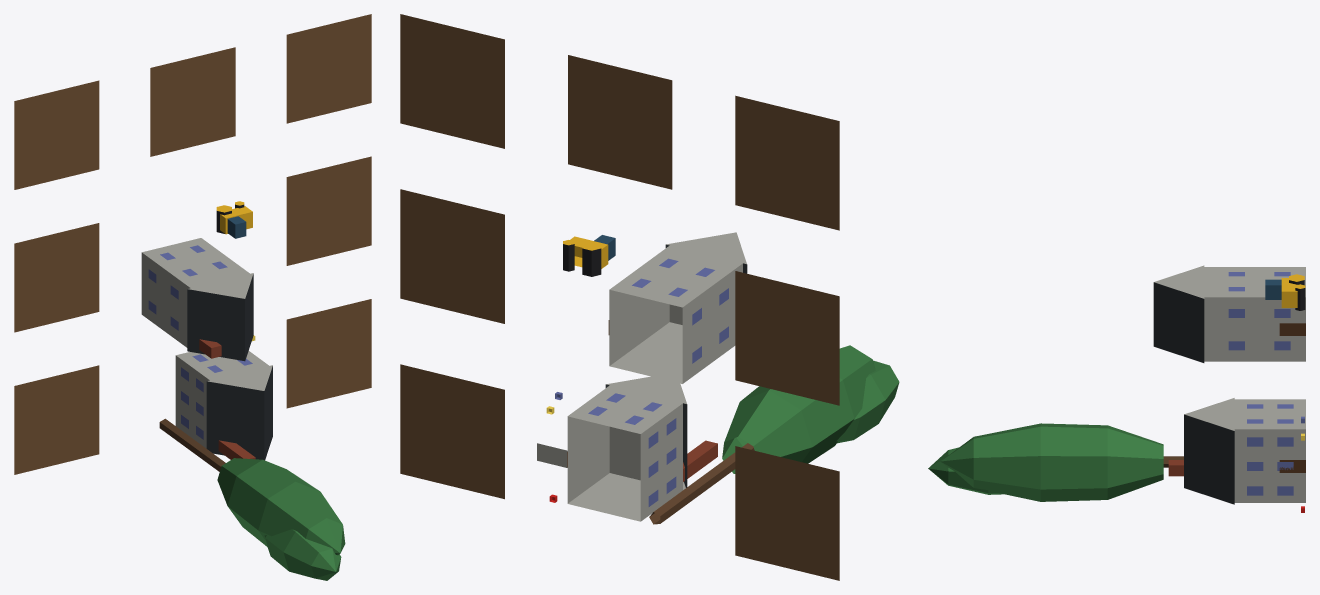
The model's file is construction_0.glb.
The picture shows the model from 3 angles, left to right: view 1: azimuth 30°, elevation 25°; view 2: azimuth 150°, elevation 25°; view 3: azimuth 270°, elevation 25°; orthographic projection. The views are drawn at different scales.
Parts seen in each view (by area): view 1: t10_g33, t11_g34, t12_g36, t00_g37, t01_g37, t21_g38, t22_g38, t02_g36, t20_g35; view 2: t10_g33, t11_g34, t20_g35, t00_g37, t02_g36, t22_g38, t01_g37, t12_g36, t21_g38; view 3: t10_g33, t11_g34.
Boxes of the visible parts, bbox=[...] form: t10_g33: bbox=[159, 335, 345, 580]; t11_g34: bbox=[141, 201, 253, 361]; t12_g36: bbox=[150, 47, 235, 156]; t00_g37: bbox=[14, 365, 99, 474]; t01_g37: bbox=[14, 223, 99, 332]; t21_g38: bbox=[286, 156, 371, 265]; t22_g38: bbox=[286, 14, 371, 123]; t02_g36: bbox=[14, 80, 99, 189]; t20_g35: bbox=[286, 299, 371, 408]; t10_g33: bbox=[537, 345, 899, 524]; t11_g34: bbox=[563, 232, 747, 383]; t20_g35: bbox=[400, 364, 504, 499]; t00_g37: bbox=[735, 446, 839, 580]; t02_g36: bbox=[735, 95, 839, 230]; t22_g38: bbox=[400, 14, 504, 148]; t01_g37: bbox=[735, 271, 839, 405]; t12_g36: bbox=[568, 55, 672, 189]; t21_g38: bbox=[400, 189, 504, 323]; t10_g33: bbox=[928, 398, 1305, 512]; t11_g34: bbox=[1153, 265, 1305, 362].
Size of the model in its own units: 42 by 44.53 by 37.19.
